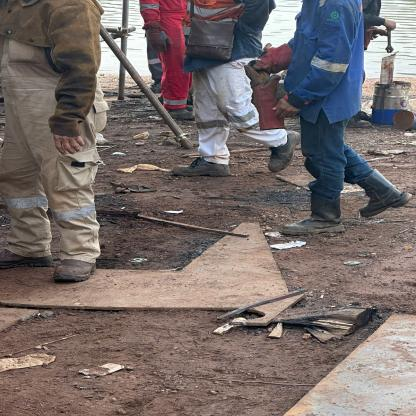bota: (278, 193, 349, 239), (166, 157, 238, 182), (263, 129, 300, 176), (54, 253, 99, 281), (0, 247, 47, 270)
